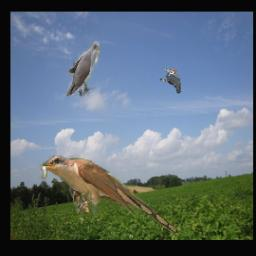Cuckoo: (38, 154, 179, 233), (65, 41, 101, 96)
Woodpecker: (159, 69, 182, 95)
